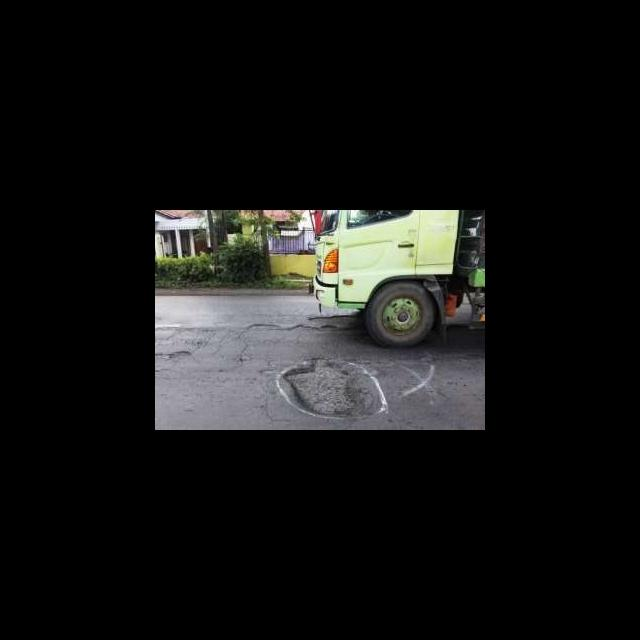lubang_kecil: (279, 352, 365, 422), (234, 312, 363, 337), (163, 342, 194, 364)
